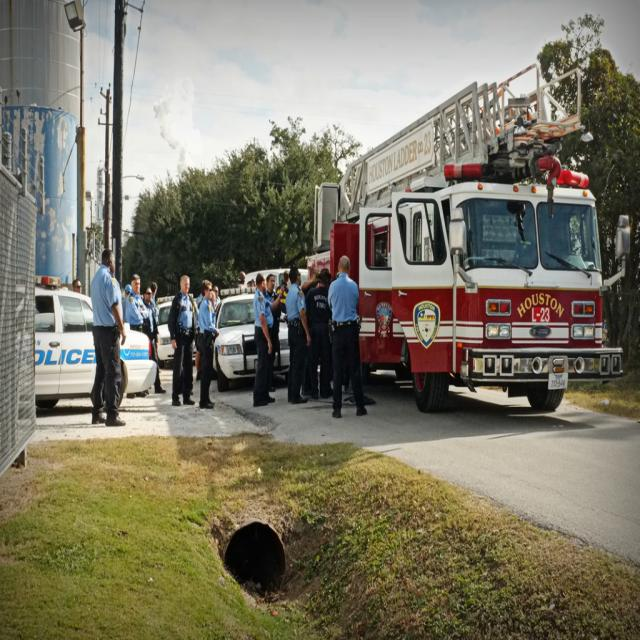Heavy Duty Truck: (307, 147, 628, 430)
Pedestrians: (86, 248, 129, 431), (332, 255, 368, 423), (166, 274, 197, 410), (252, 272, 274, 411), (199, 278, 219, 412)
